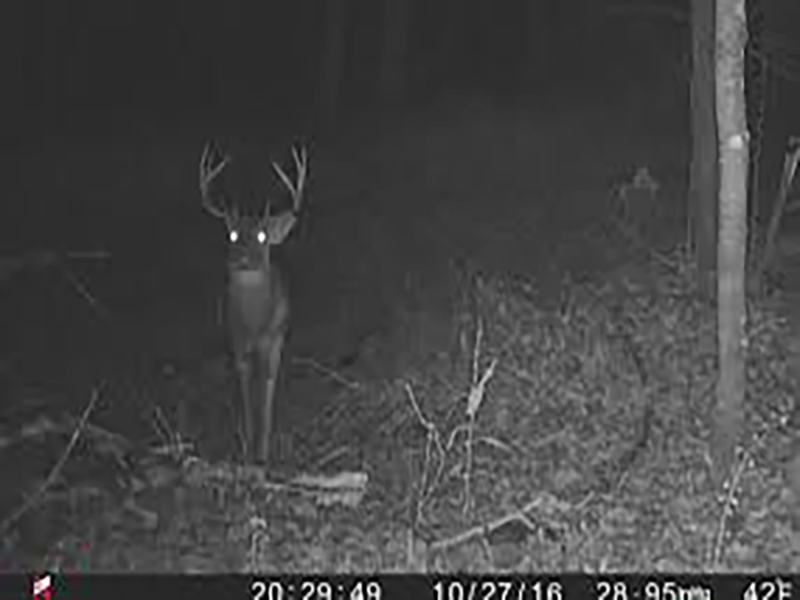cervo: (194, 139, 321, 474)
